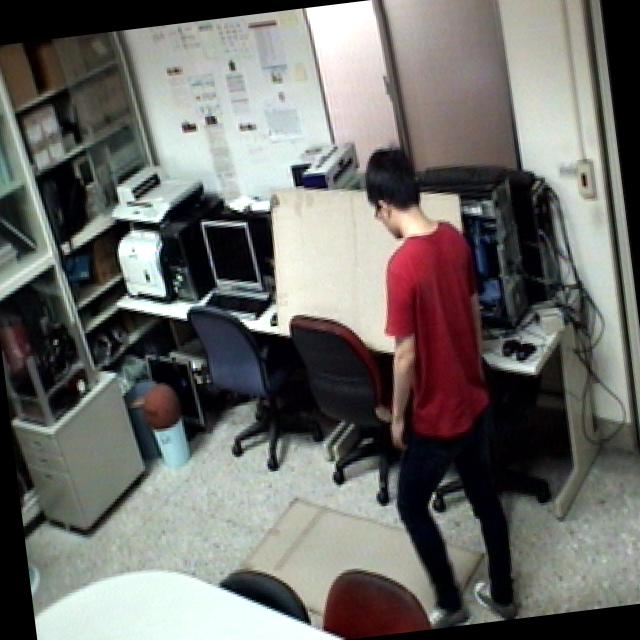stand: (344, 117, 523, 632)
